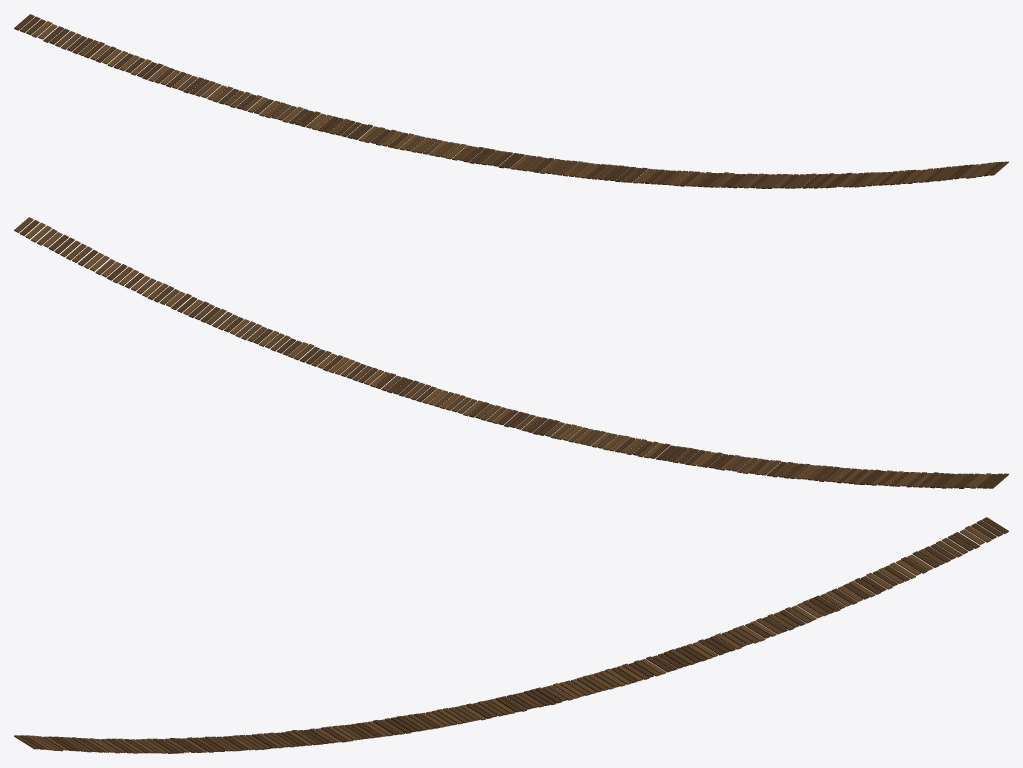
The model's file is SM_Bridge_15_16.fbx.
3 renders of one model, top to bottom at view 1: azimuth 30°, elevation 25°; view 2: azimuth 210°, elevation 25°; view 3: azimuth 270°, elevation 25°, orthographic. The views are drawn at different scales.
Visible parts, largest first — view 1: SM_Bridge_15_16; view 2: SM_Bridge_15_16; view 3: SM_Bridge_15_16.
Boxes of the visible parts, left/top/right/bottom form: SM_Bridge_15_16: left=14, top=14, right=1008, bottom=188; SM_Bridge_15_16: left=14, top=217, right=1008, bottom=488; SM_Bridge_15_16: left=14, top=517, right=1008, bottom=753.
Size of the model in its own units: 41.4 by 6.98 by 59.91.
